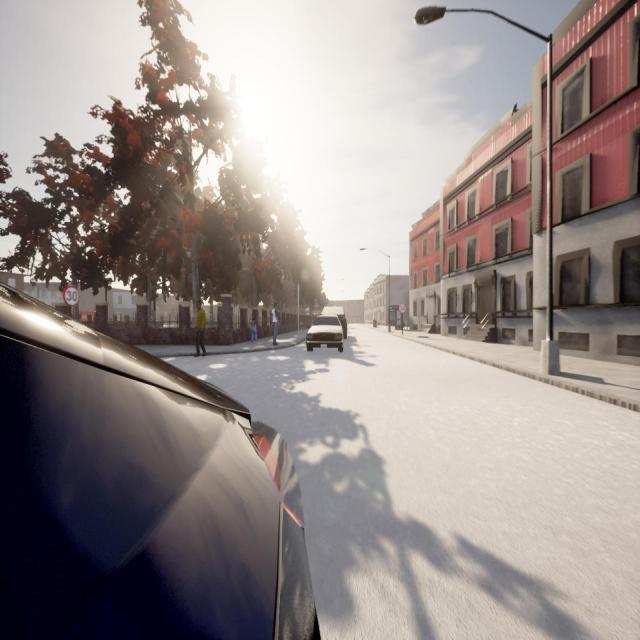Pedestrian: (193, 299, 207, 357), (271, 303, 281, 345), (250, 317, 258, 343), (299, 319, 304, 333)
Traffic_Signs: (62, 286, 80, 306), (399, 304, 406, 314)
Vehicle: (0, 285, 318, 637), (306, 315, 344, 353), (321, 306, 347, 339)
